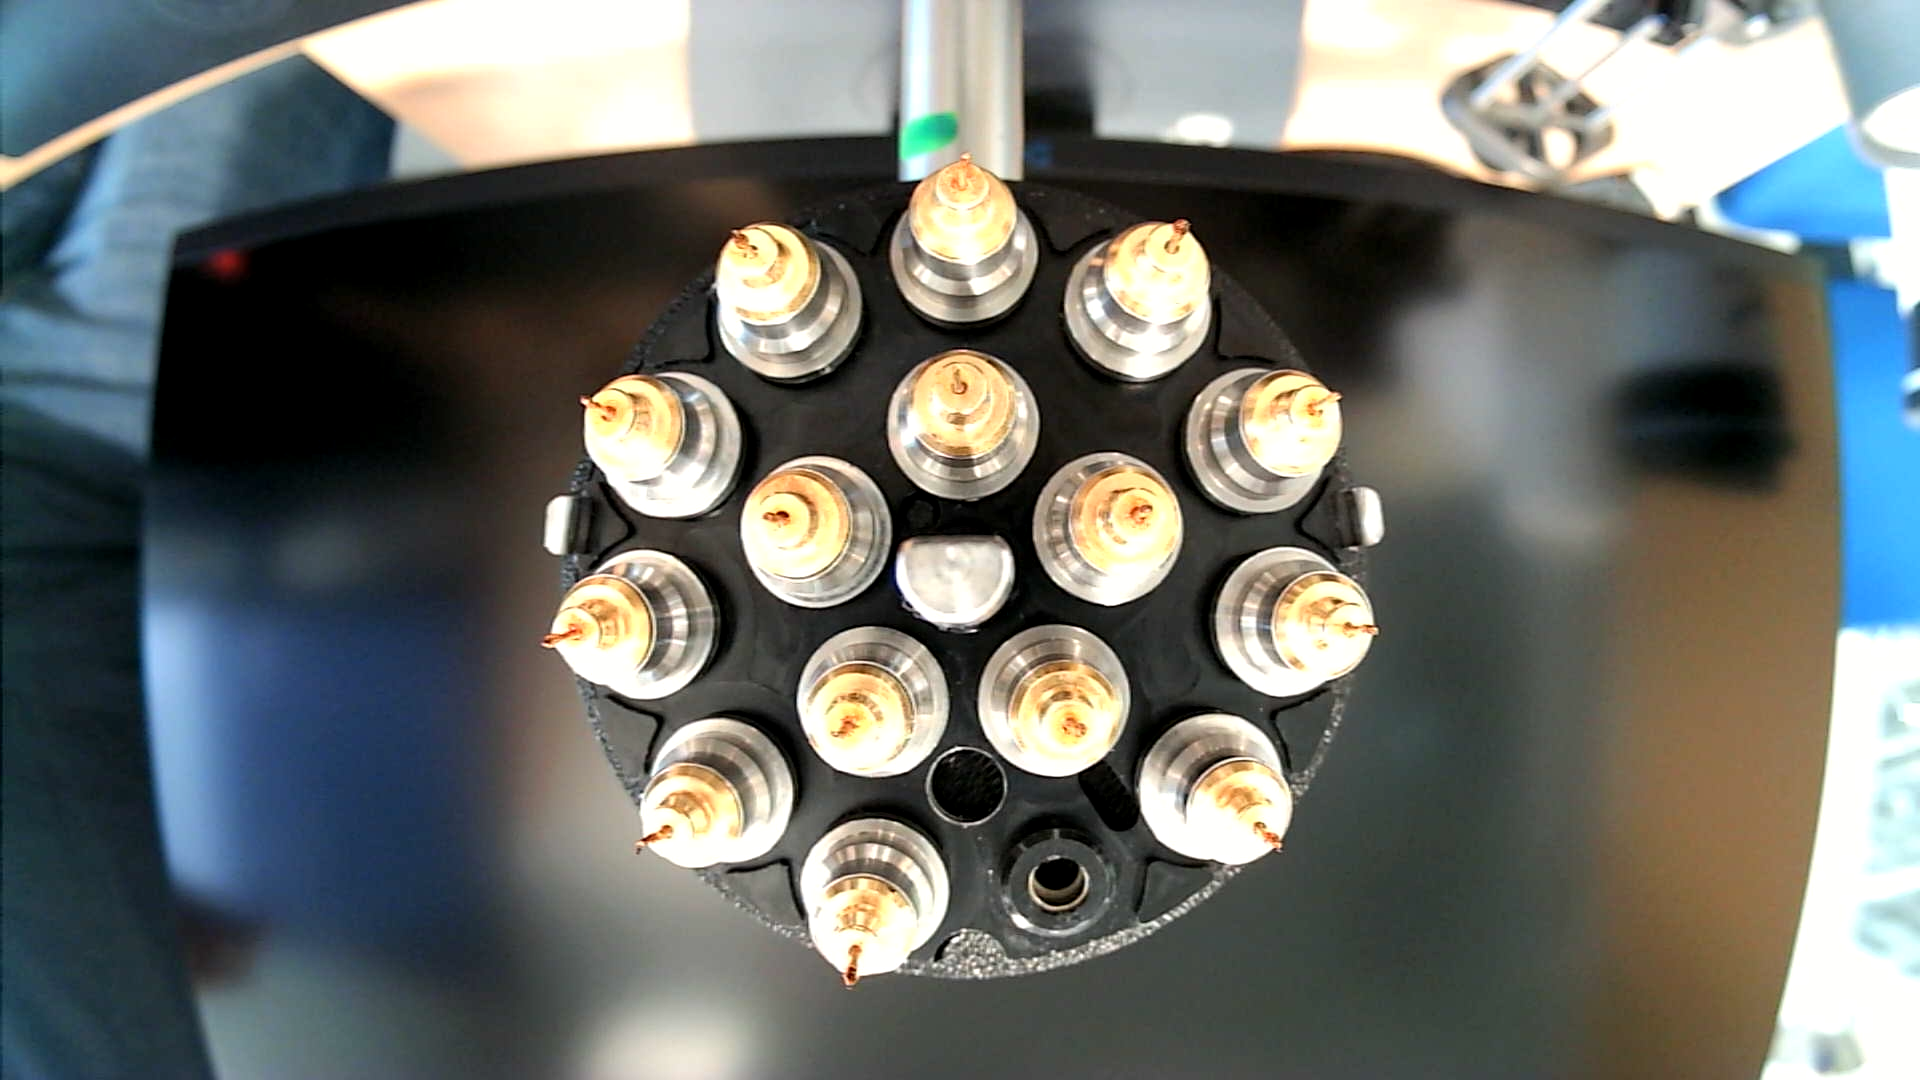empty: (994, 818, 1124, 945)
hole: (924, 744, 1009, 831)
pin: (541, 549, 727, 703), (796, 811, 953, 993), (1208, 541, 1379, 698), (886, 152, 1039, 327), (636, 716, 800, 878), (574, 368, 742, 526), (709, 222, 865, 392), (1062, 214, 1213, 385), (1135, 708, 1298, 866), (793, 625, 952, 782), (882, 345, 1042, 502), (1178, 361, 1340, 514), (1030, 446, 1184, 605), (737, 452, 891, 612), (978, 620, 1134, 777)
rod: (893, 529, 1019, 634)
